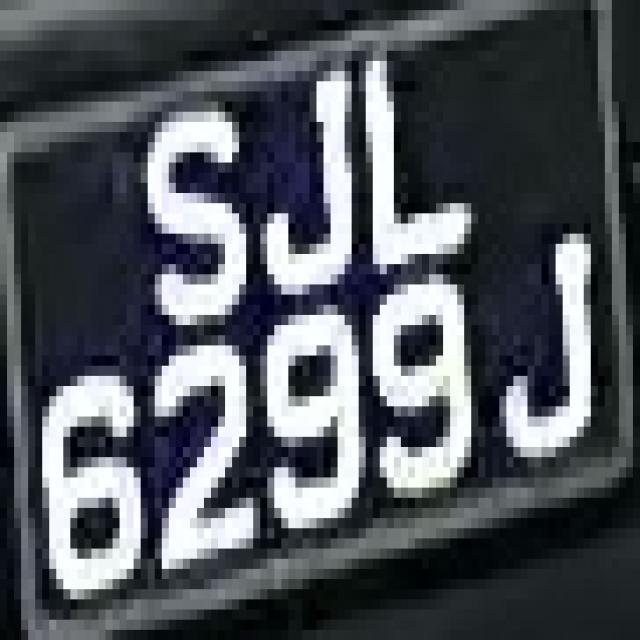2: (134, 345, 246, 579)
6: (14, 356, 169, 600)
9: (253, 294, 373, 569), (331, 295, 471, 528)
J: (478, 203, 591, 498), (253, 51, 359, 294)
L: (338, 41, 485, 264)
S: (127, 51, 253, 356)
